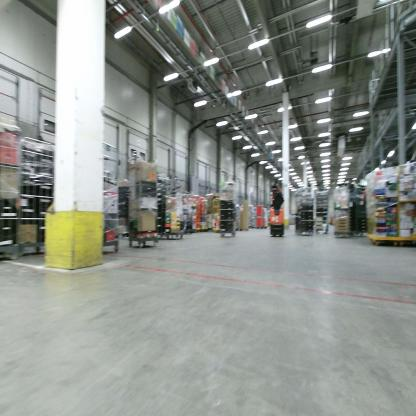pallet_truck: (268, 187, 287, 236)
